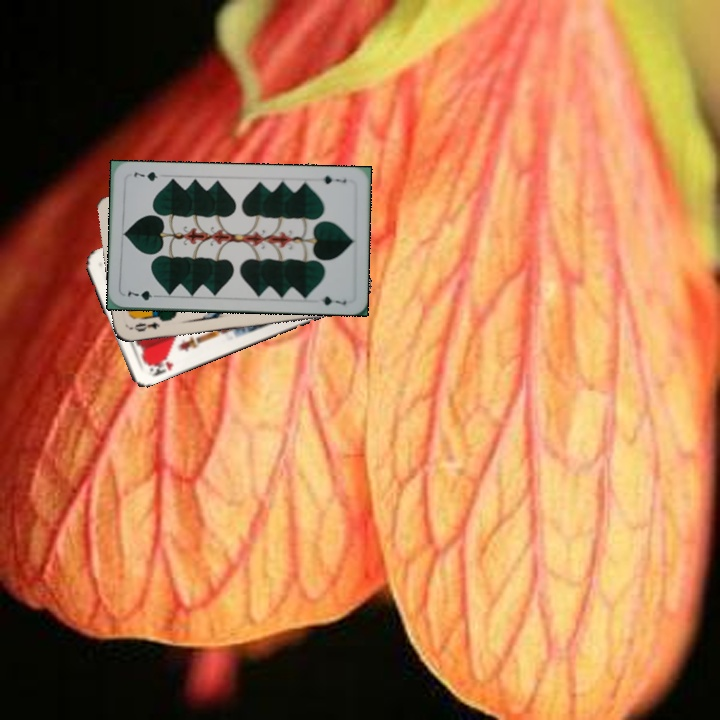EO: (127, 317, 162, 334)
G7: (124, 286, 163, 303), (314, 172, 349, 186)
HK: (144, 353, 175, 379)
